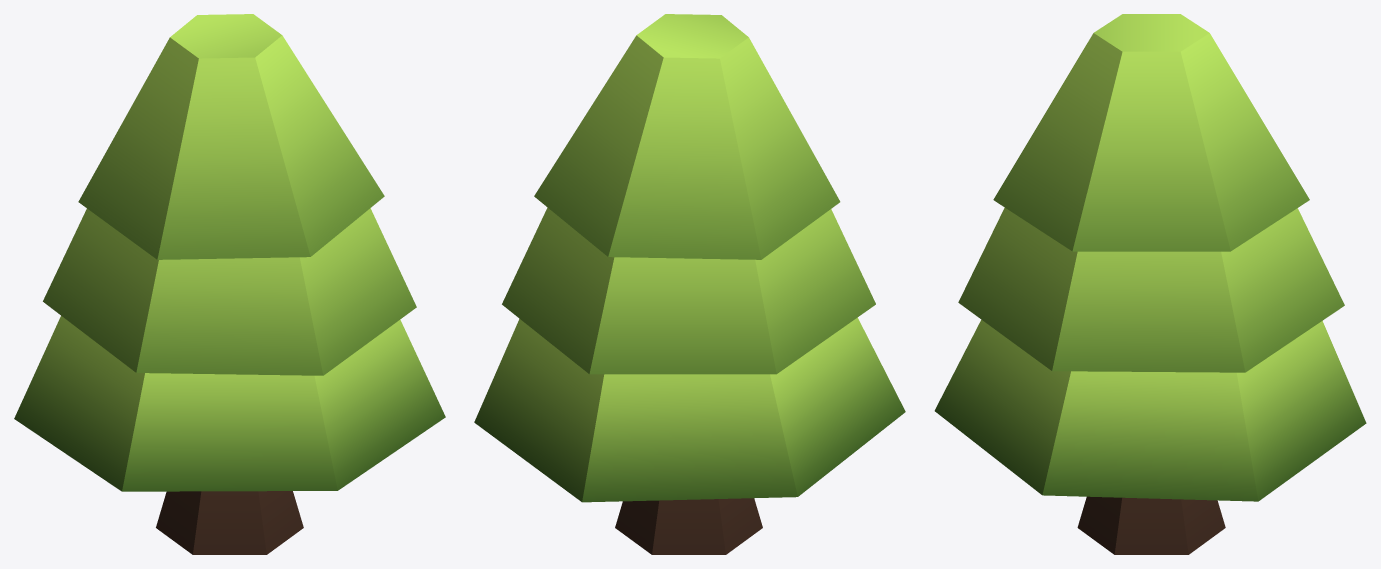
File: tree.glb
3 views of the same model, side by side, from view 1: azimuth 30°, elevation 25°; view 2: azimuth 150°, elevation 25°; view 3: azimuth 270°, elevation 25° (orthographic).
Visible parts, largest first — view 1: Tree Simple; view 2: Tree Simple; view 3: Tree Simple.
Part boxes in pixels (x1=…): Tree Simple: x1=14, y1=14, x2=445, y2=554; Tree Simple: x1=474, y1=14, x2=905, y2=554; Tree Simple: x1=934, y1=14, x2=1366, y2=554.
Bounding box in the file's own units: 4.38 × 6.39 × 5.06.
1 material, 1 textured.
